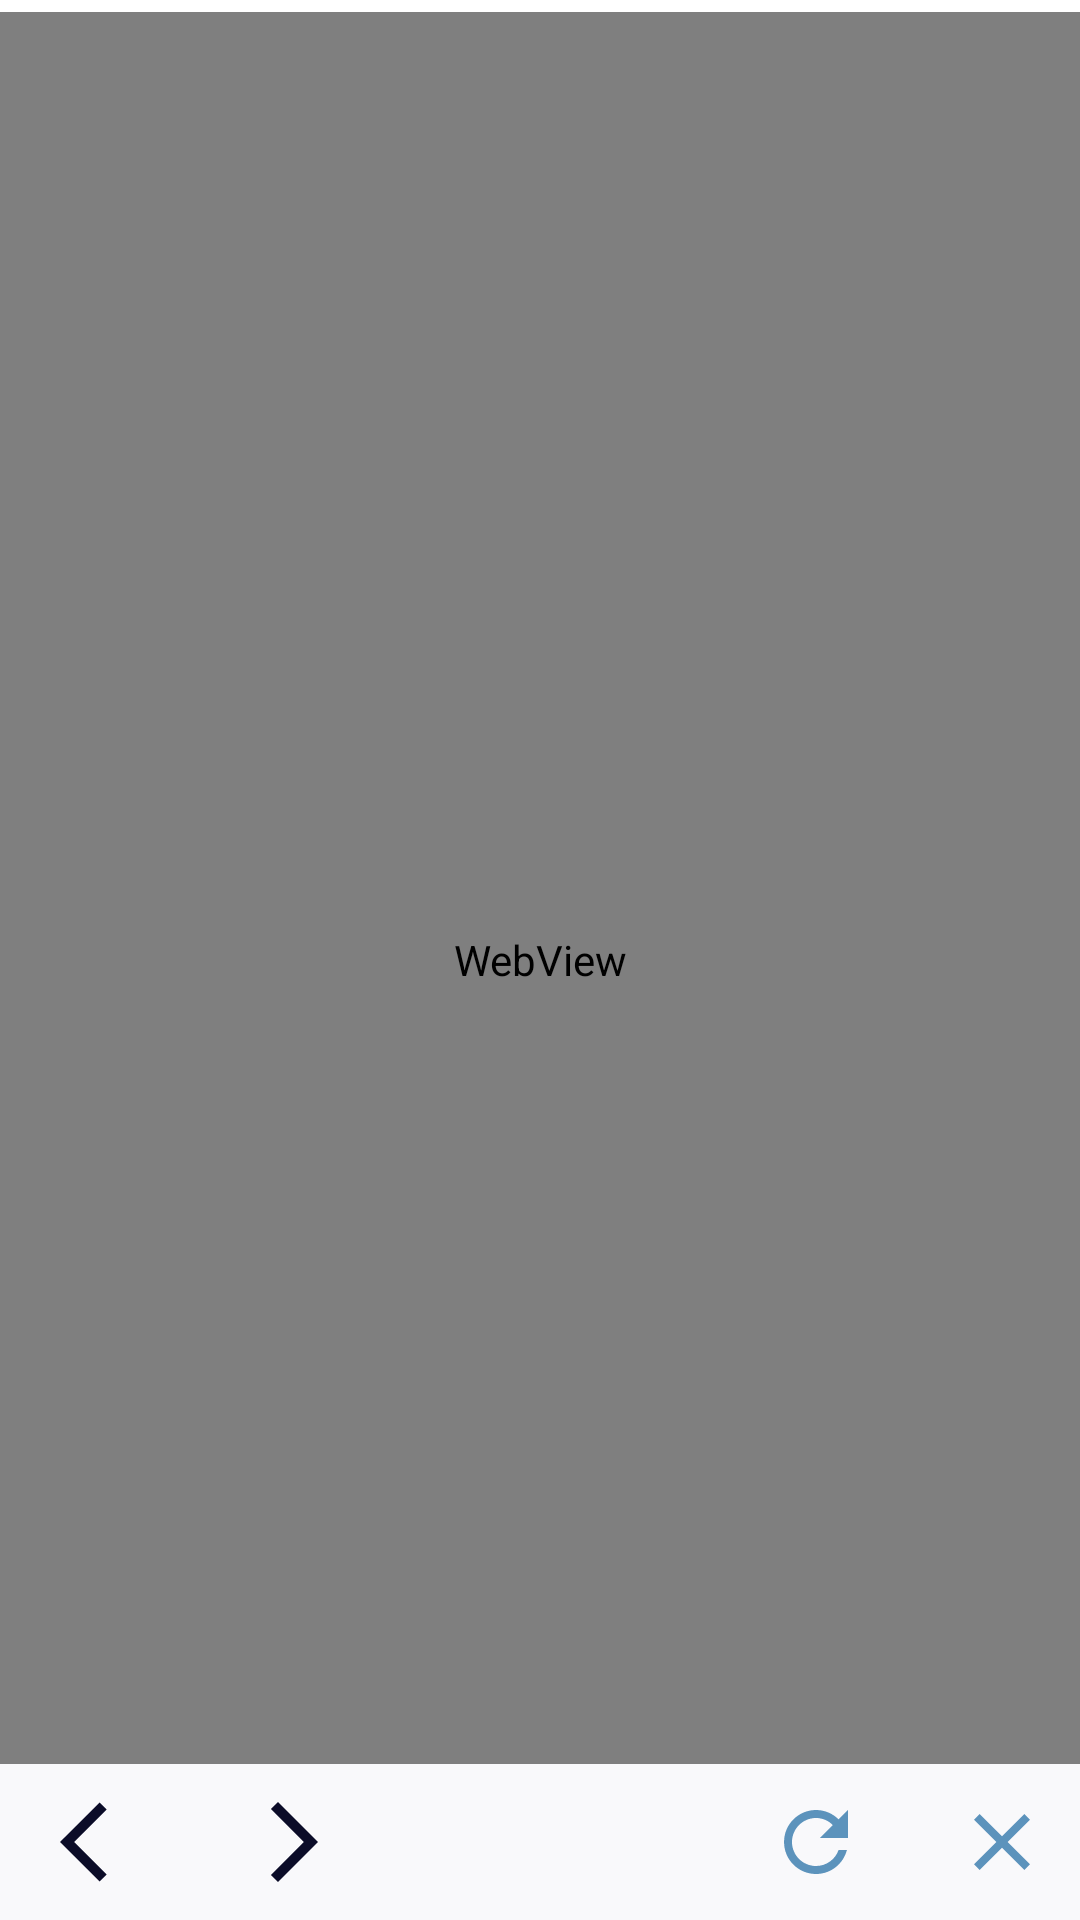

Named icons in this screenshot (1080px x 1920px) and their bounding boxes, (x1, y1, x2, y2):
back: (60, 1802, 107, 1882)
close: (974, 1814, 1030, 1870)
forward: (271, 1802, 318, 1882)
refresh: (784, 1810, 848, 1874)
